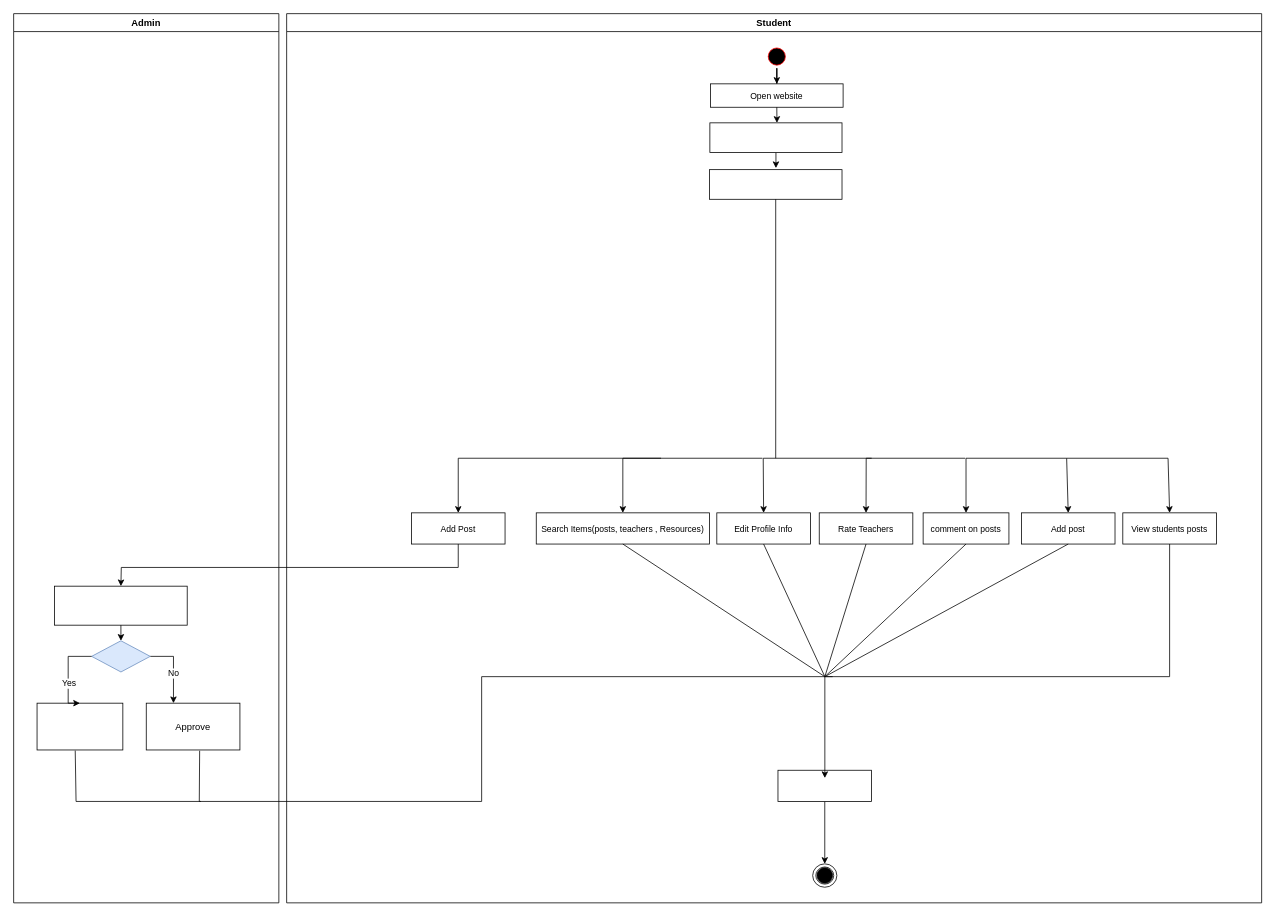
This 1275x916 diagram has some shape labels left out. Here are the shapes that lost their labels. From the top down, the centre of each, then its label:
At pixel 775 137: "Register".
At pixel 775 184: "Login".
At pixel 120 605: "Review".
At pixel 120 656: "problems?".
At pixel 79 726: "Decline".
At pixel 824 785: "Logout".
